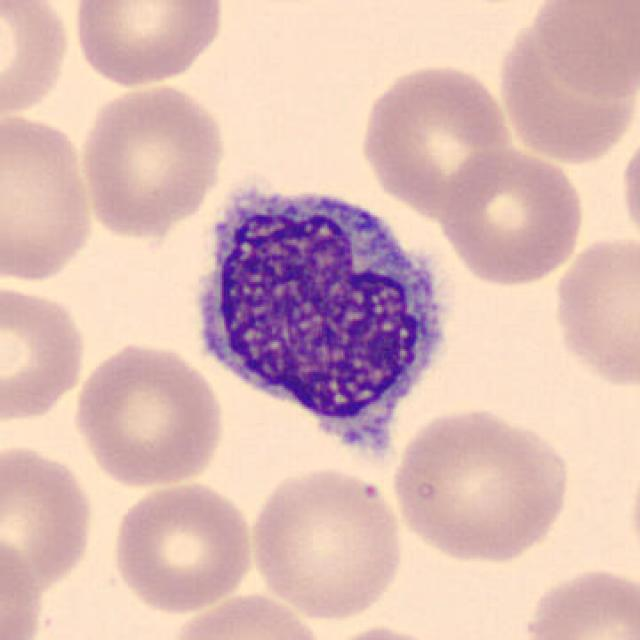Monocyte: (182, 169, 460, 480)
RBC: (388, 404, 576, 566), (245, 462, 409, 622), (356, 58, 516, 217), (75, 79, 229, 240), (70, 337, 228, 490), (436, 143, 586, 289), (106, 478, 258, 617), (498, 21, 635, 160), (0, 108, 98, 288), (0, 441, 98, 596), (546, 231, 638, 393), (70, 0, 230, 90), (0, 278, 91, 426), (530, 0, 640, 104), (519, 562, 638, 640), (0, 0, 75, 122), (164, 589, 327, 640), (0, 529, 48, 640), (617, 124, 640, 252), (314, 622, 460, 640)
